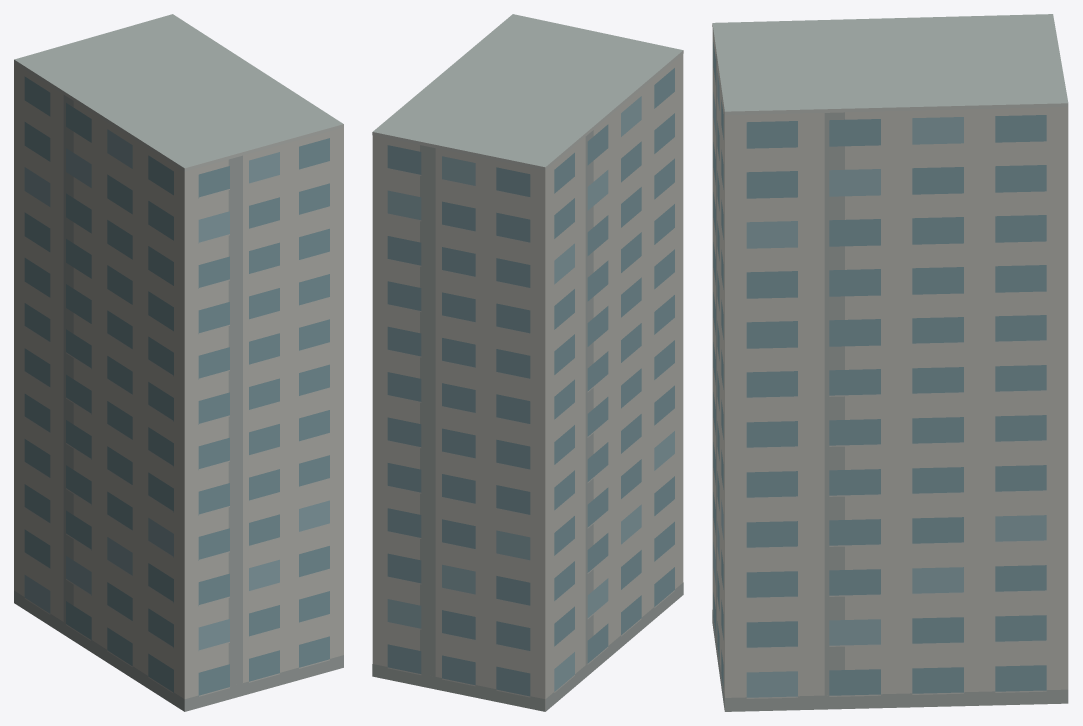
File: survey-upis-32909632.glb
3 renders of one model, left to right at view 1: azimuth 30°, elevation 25°; view 2: azimuth 150°, elevation 25°; view 3: azimuth 270°, elevation 25°, orthographic. The views are drawn at different scales.
Parts seen in each view (by area): view 1: survey-upis-32909632.tmp; view 2: survey-upis-32909632.tmp; view 3: survey-upis-32909632.tmp.
Part boxes in pixels (x1,y1,x2,y2): survey-upis-32909632.tmp: (14, 14, 343, 711); survey-upis-32909632.tmp: (372, 14, 683, 711); survey-upis-32909632.tmp: (712, 14, 1068, 711).
Size of the model in its own units: 13.65 by 39.1 by 21.02.
